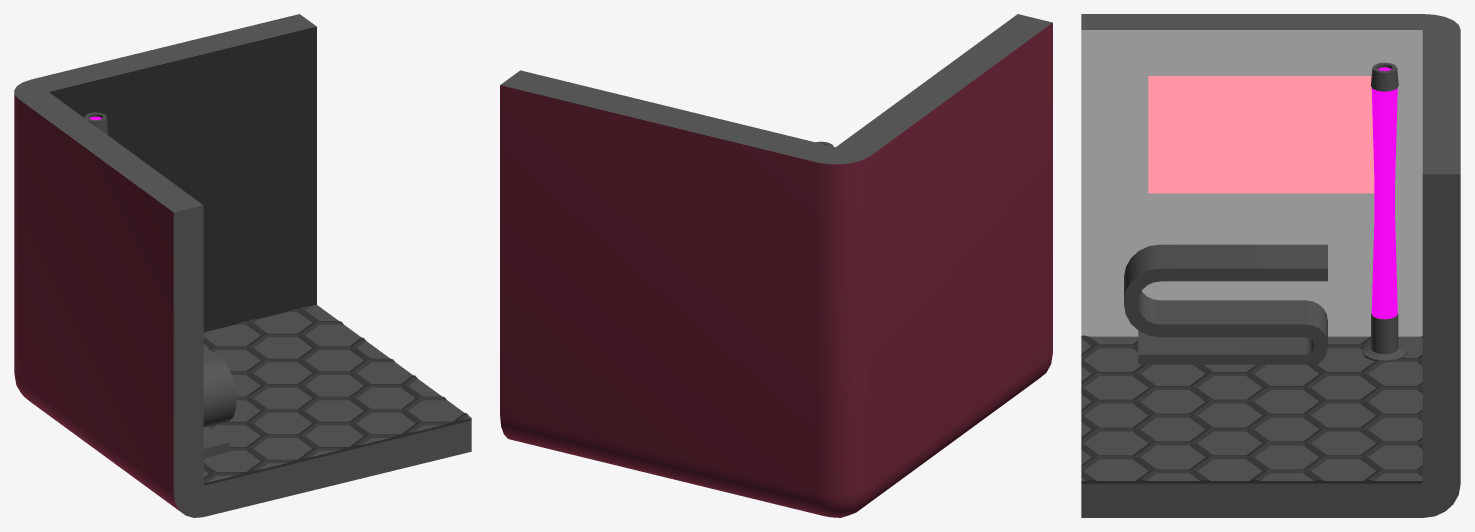
The model's file is cyber_room.fbx.
3 renders of one model, left to right at view 1: azimuth 30°, elevation 25°; view 2: azimuth 150°, elevation 25°; view 3: azimuth 270°, elevation 25°, orthographic. The views are drawn at different scales.
Parts seen in each view (by area): view 1: Cyber_Room, Floor, Table; view 2: Cyber_Room; view 3: Cyber_Room, Floor, Panel, Table, Neon.
Boxes of the visible parts, x1,y1,x2,y2 form: Cyber_Room: [14, 14, 471, 517]; Floor: [203, 305, 471, 485]; Table: [203, 346, 236, 457]; Cyber_Room: [500, 14, 1052, 517]; Cyber_Room: [1081, 14, 1460, 517]; Floor: [1081, 335, 1422, 483]; Panel: [1148, 76, 1374, 193]; Table: [1124, 244, 1327, 364]; Neon: [1362, 62, 1407, 362].
Bounding box in the file's own units: 200 × 200 × 200.
